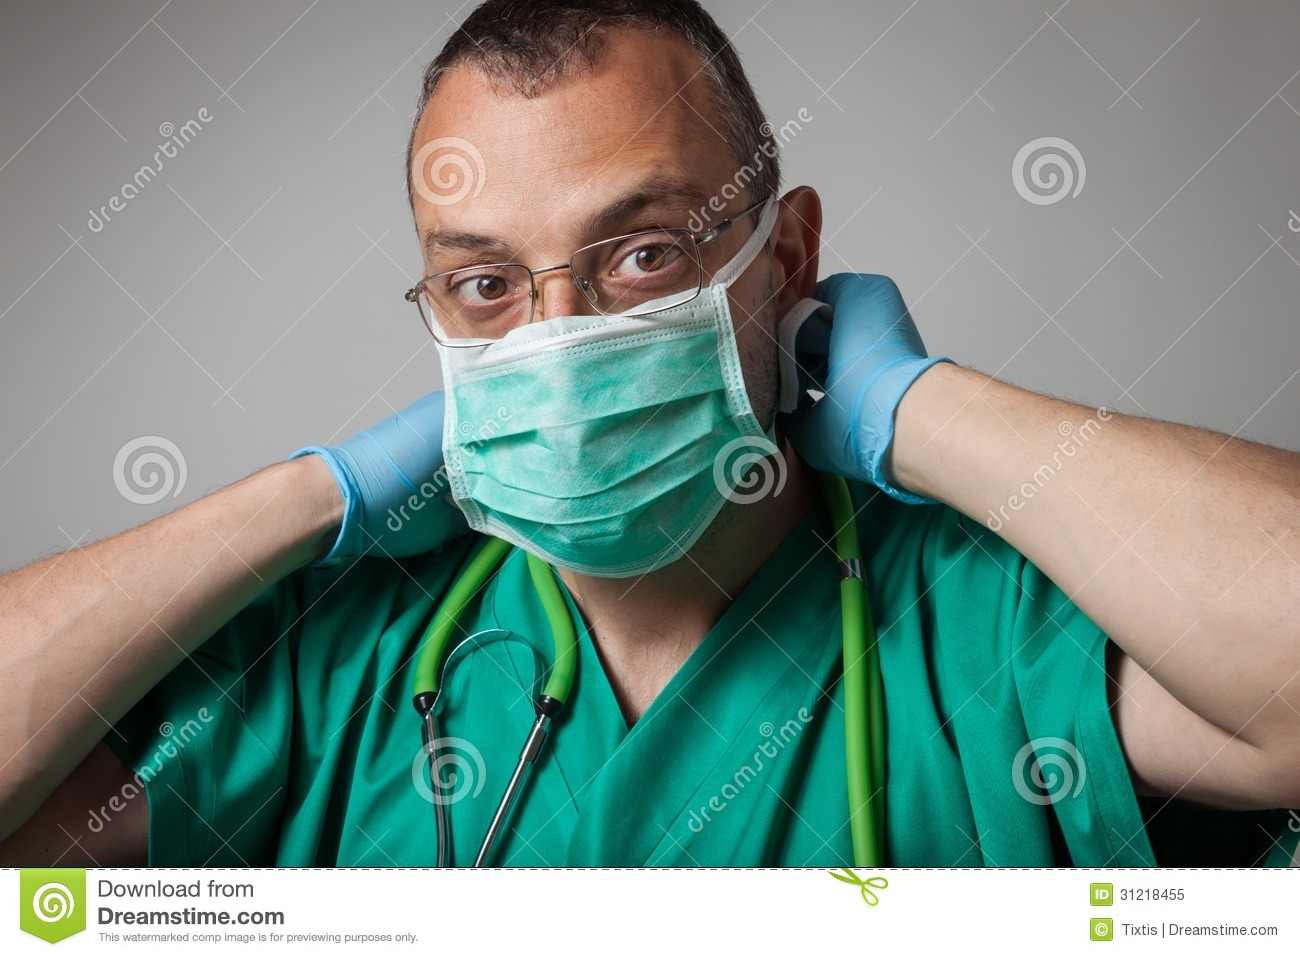mask: (441, 326, 760, 545)
